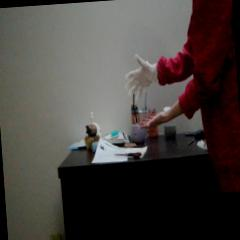gloved: (124, 54, 158, 98)
not-gloved: (138, 112, 169, 130)
